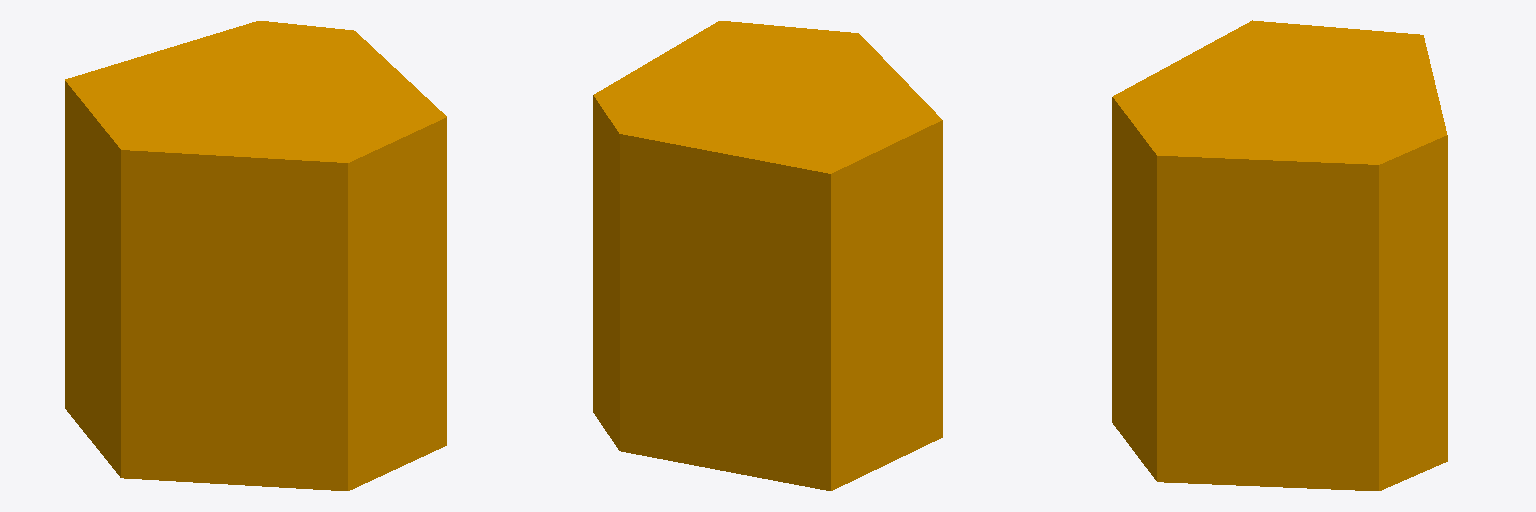
robot.urdf — object:
<?xml version="1.0"?>
<robot name="object">
  <link name="object">
    <visual>
      <origin xyz="0 0 0"/>
      <geometry>
        <mesh filename="meshes/generated/col_085.obj" scale="0.03 0.03 0.03"/>
      </geometry>
    </visual>
    <collision>
      <origin xyz="0 0 0"/>
      <geometry>
        <mesh filename="meshes/generated/col_085.obj" scale="0.03 0.03 0.03"/>
      </geometry>
    </collision>
    <inertial>
      <density value="1000.0"/>
    </inertial>
  </link>
</robot>

--- Facts derived from the render (not from the file) ---
Views: 3 orthographic renders of the robot side by side, from view 1: azimuth 30°, elevation 25°; view 2: azimuth 150°, elevation 25°; view 3: azimuth 270°, elevation 25°.
Model object with 1 links and 0 joints (none), rooted at object, posed all joints at 0.
Links seen in each view (by area): view 1: object; view 2: object; view 3: object.
Link boxes in pixels (x1,y1,x2,y2): object: [65, 21, 446, 490]; object: [593, 21, 942, 490]; object: [1112, 20, 1447, 490].
Bounding box of the posed robot: 0.0569 × 0.0558 × 0.06 m (x, y, z).
1 mesh visuals loaded from 1 distinct referenced files (1 OBJ).
